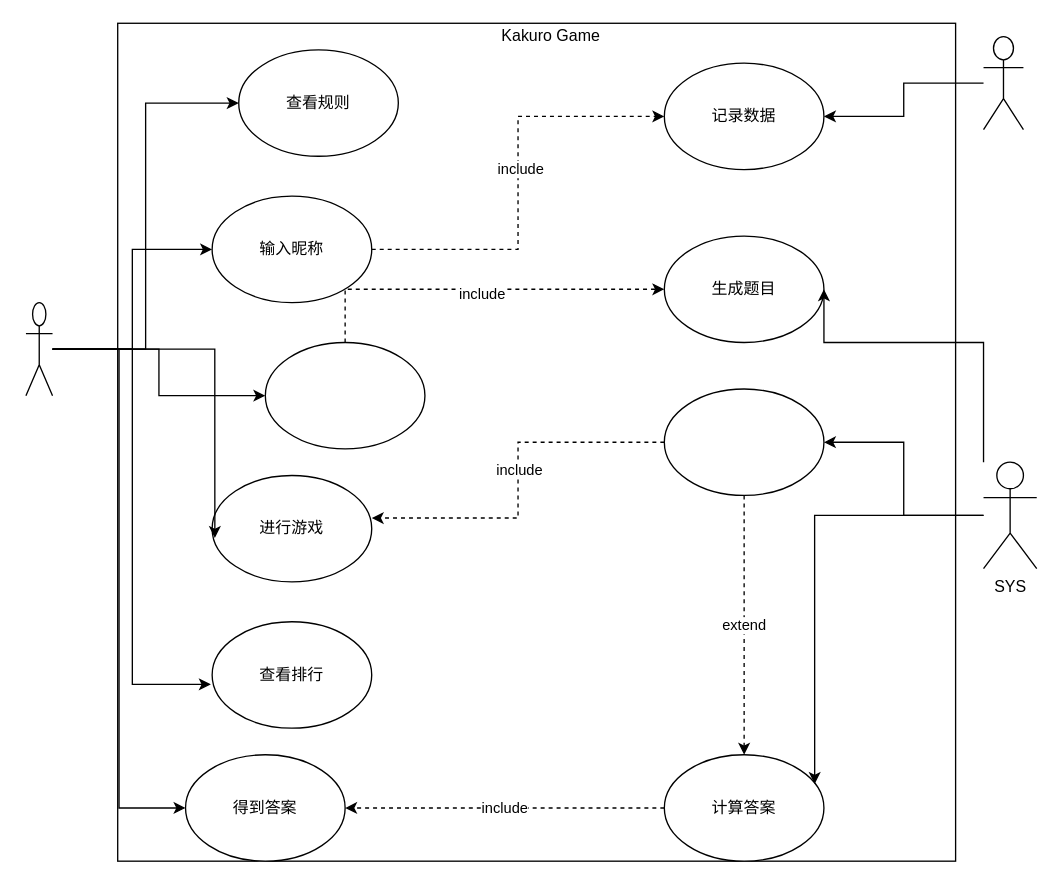
This 1060x884 diagram has some shape labels left out. Each missing label, with the box of its shape:
DB: (982, 35, 1023, 130)
User: (25, 301, 53, 396)
检验答案: (663, 388, 824, 495)
重新载入: (264, 341, 425, 449)
